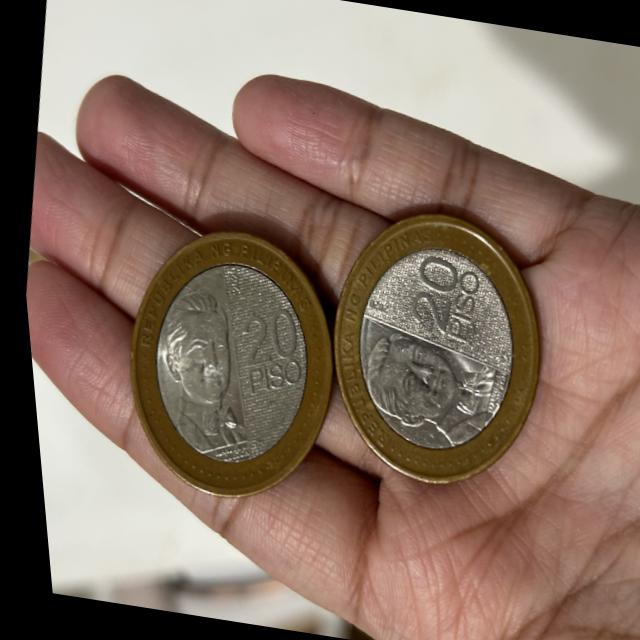20_New_Front: (385, 246, 489, 348), (227, 301, 306, 408)
